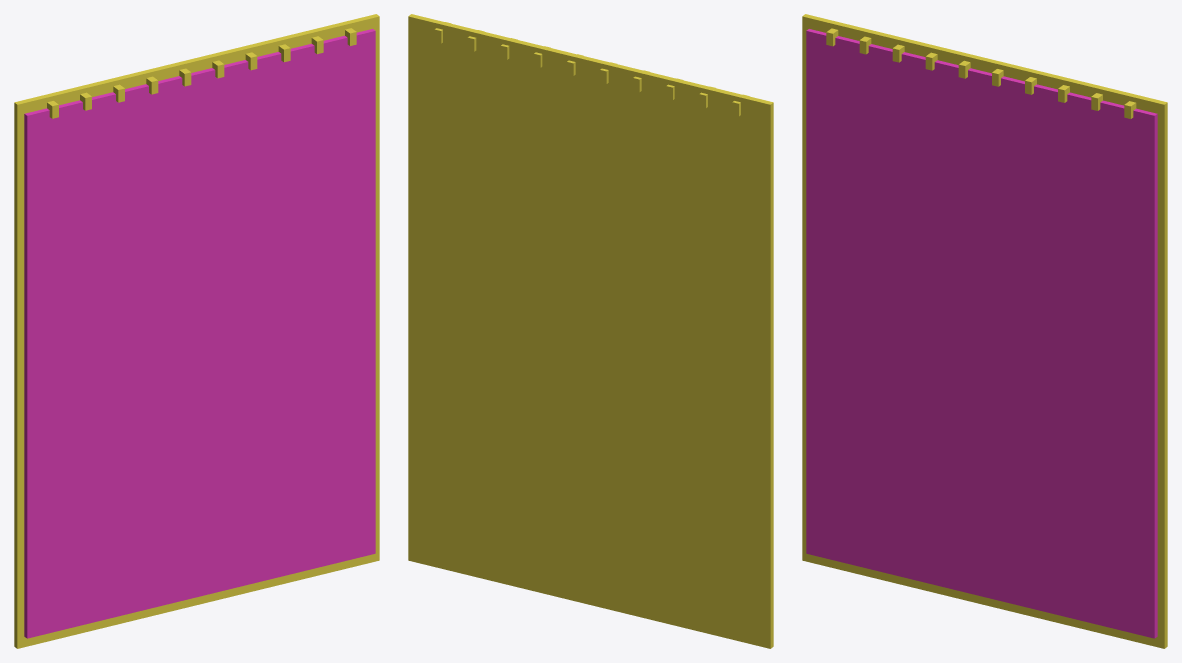
Rendered from document.glb.
3 renders of one model, left to right at view 1: azimuth 30°, elevation 25°; view 2: azimuth 150°, elevation 25°; view 3: azimuth 330°, elevation 25°, orthographic.
Parts seen in each view (by area): view 1: Document; view 2: Document; view 3: Document.
Part boxes in pixels (bbox=[...]): Document: bbox=[14, 14, 379, 648]; Document: bbox=[408, 14, 773, 648]; Document: bbox=[802, 14, 1167, 648].
Size of the model in its own units: 0.5473 by 0.7855 by 0.0275.
